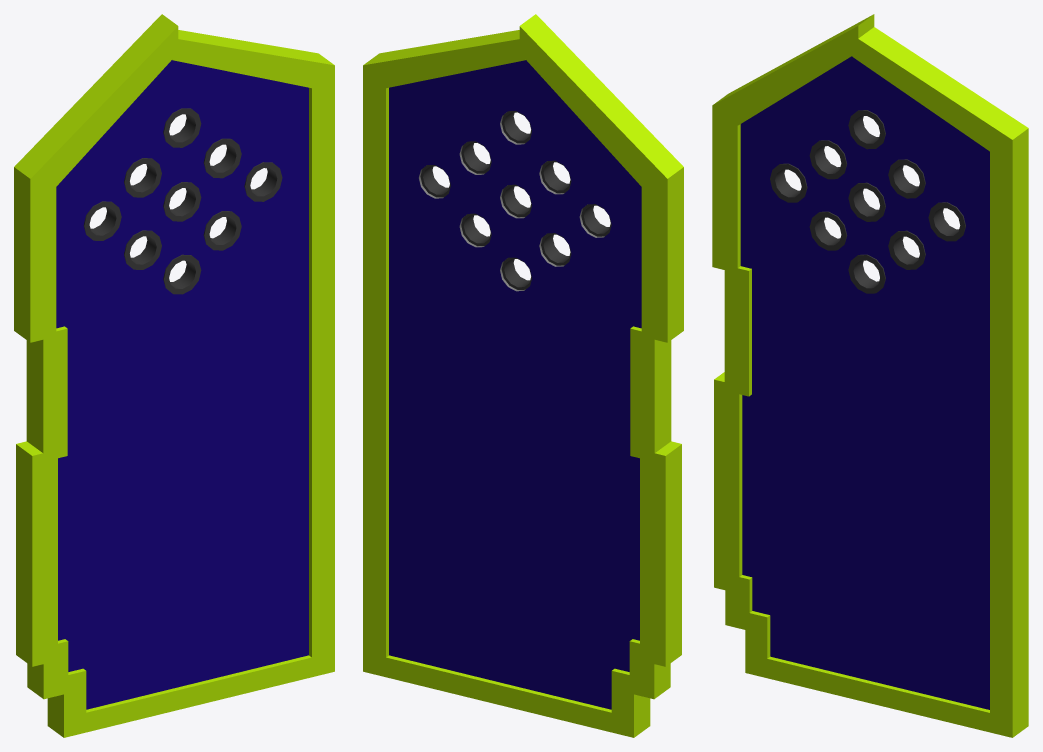
File: throne room door.fbx
3 views of the same model, side by side, from view 1: azimuth 30°, elevation 25°; view 2: azimuth 150°, elevation 25°; view 3: azimuth 330°, elevation 25° (orthographic).
Visible parts, largest first — view 1: Line005; view 2: Line005; view 3: Line005.
Part boxes in pixels (bbox=[...]): Line005: bbox=[14, 14, 334, 737]; Line005: bbox=[363, 14, 683, 737]; Line005: bbox=[712, 14, 1028, 737].
Size of the model in its own units: 69.68 by 6.5 by 150.
